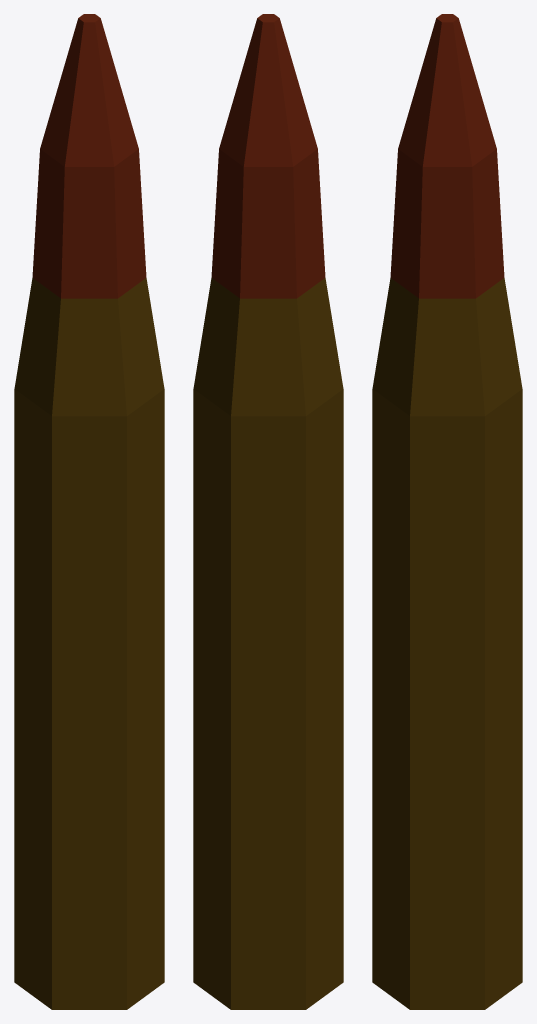
The model's file is Rifle_Bullet_5.56×45mm.obj.
3 renders of one model, left to right at view 1: azimuth 30°, elevation 25°; view 2: azimuth 150°, elevation 25°; view 3: azimuth 270°, elevation 25°, orthographic.
Parts seen in each view (by area): view 1: Rifle_Bullet_5.56×45mm_Cylinder.003; view 2: Rifle_Bullet_5.56×45mm_Cylinder.003; view 3: Rifle_Bullet_5.56×45mm_Cylinder.003.
Part boxes in pixels (x1,y1,x2,y2): Rifle_Bullet_5.56×45mm_Cylinder.003: (14,14,164,1009); Rifle_Bullet_5.56×45mm_Cylinder.003: (193,14,343,1009); Rifle_Bullet_5.56×45mm_Cylinder.003: (372,14,522,1009).
Bounding box in the file's own units: 0.00822 × 0.0674 × 0.0095.
